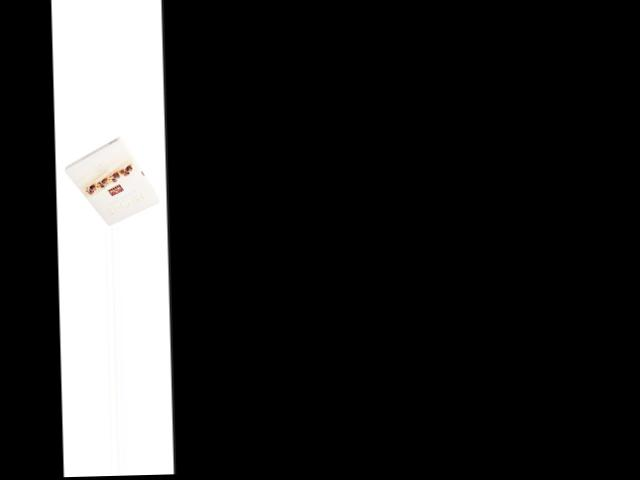chocolate: (56, 134, 160, 225)
